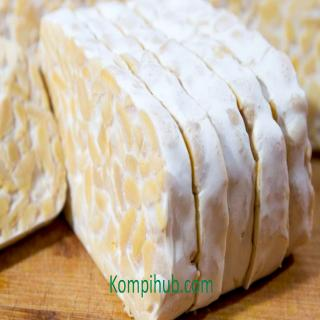Tempe: (1, 1, 69, 251), (211, 2, 320, 154)
